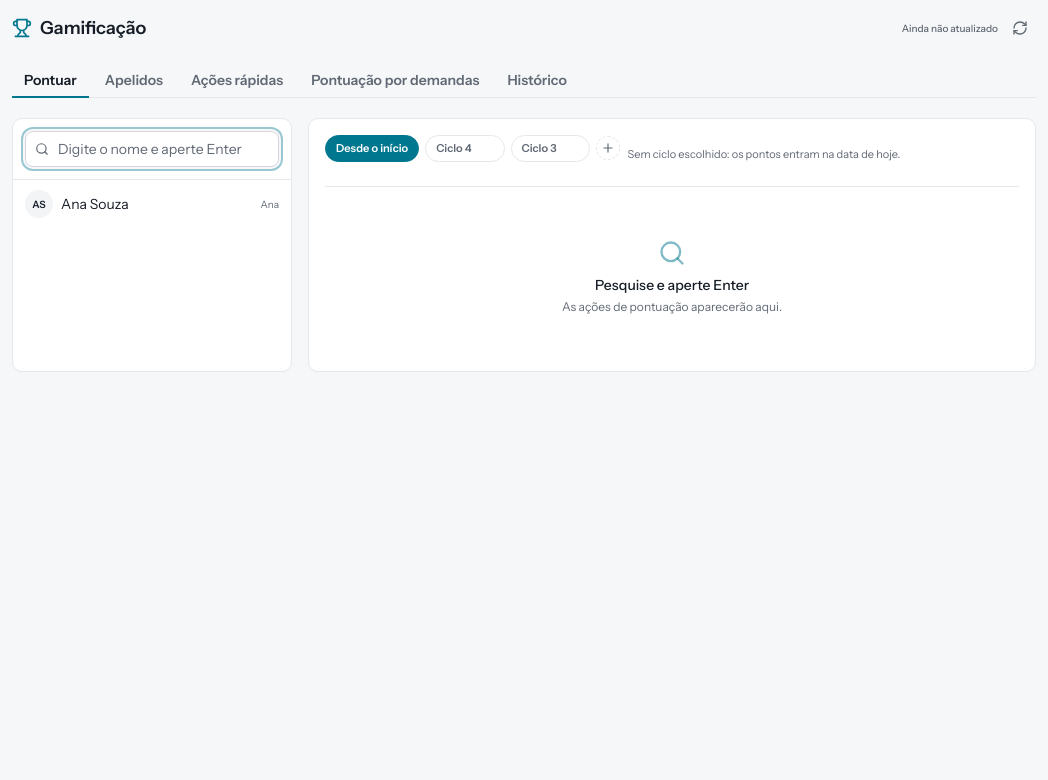
Test case: pontos por ciclo na tela de pontuar › mostra o total e a divisão por ciclo da pessoa
The width and height of the screenshot is (1048, 780).
In the field with placeholder "Digite o nome e aperte Enter": (152,149) [25,131,279,167], type "Ana"
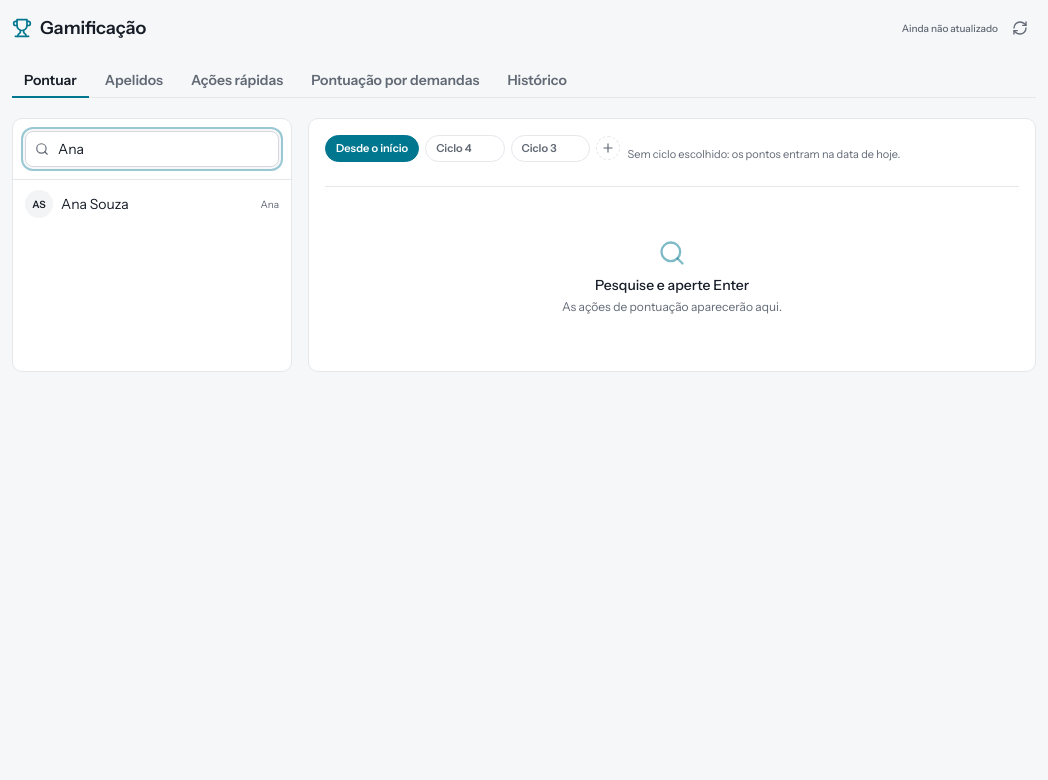
Press Enter in the field with placeholder "Digite o nome e aperte Enter", box [25,131,279,167]
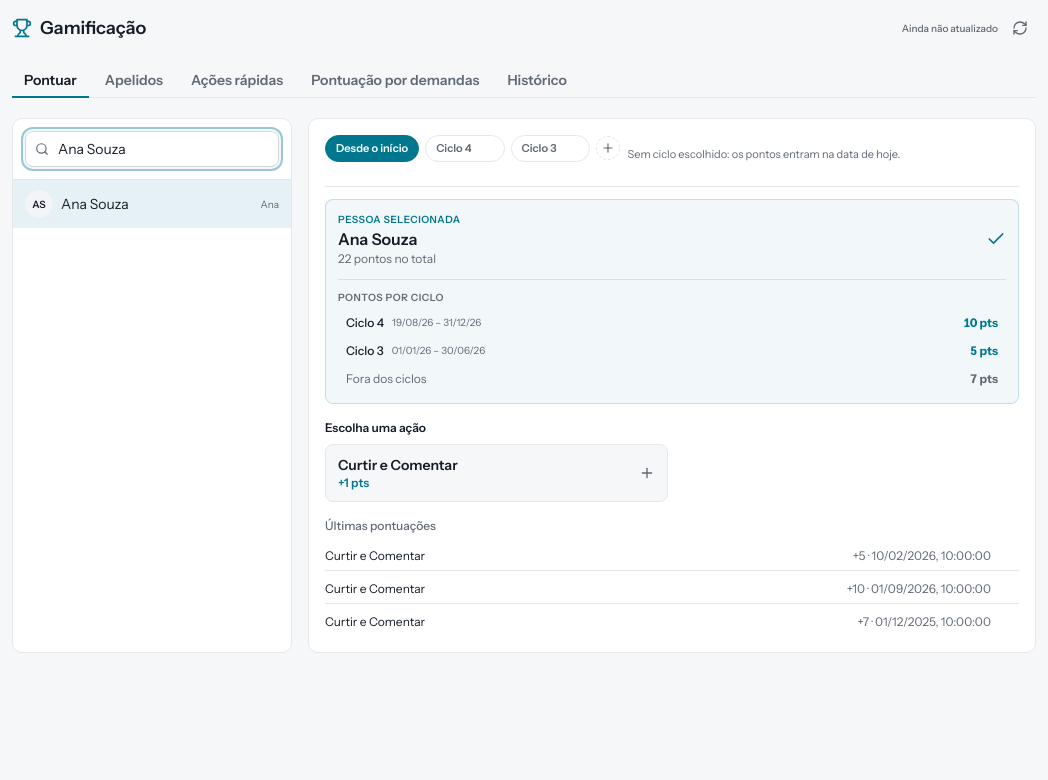
Result: the text "22 pontos no total" is shown at [338,250,436,266]
Result: the text "10 pts" is shown at [963,314,998,330]
Result: the text "5 pts" is shown at [970,342,998,358]
